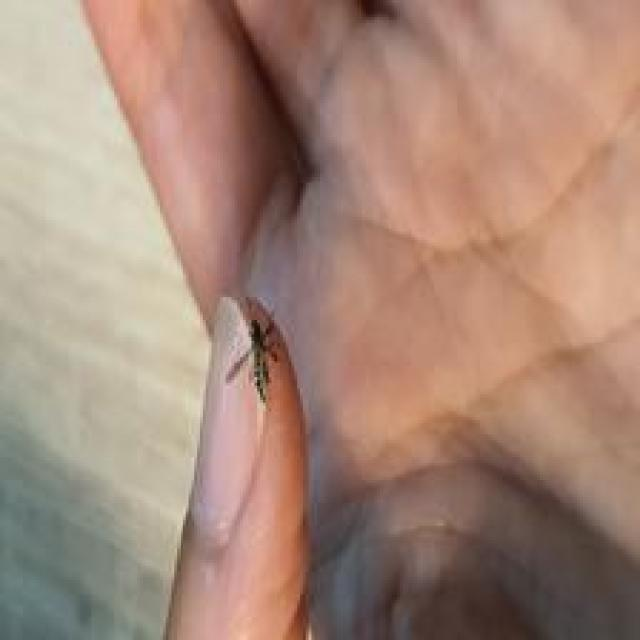Aedes albopictus: (223, 316, 280, 407)
